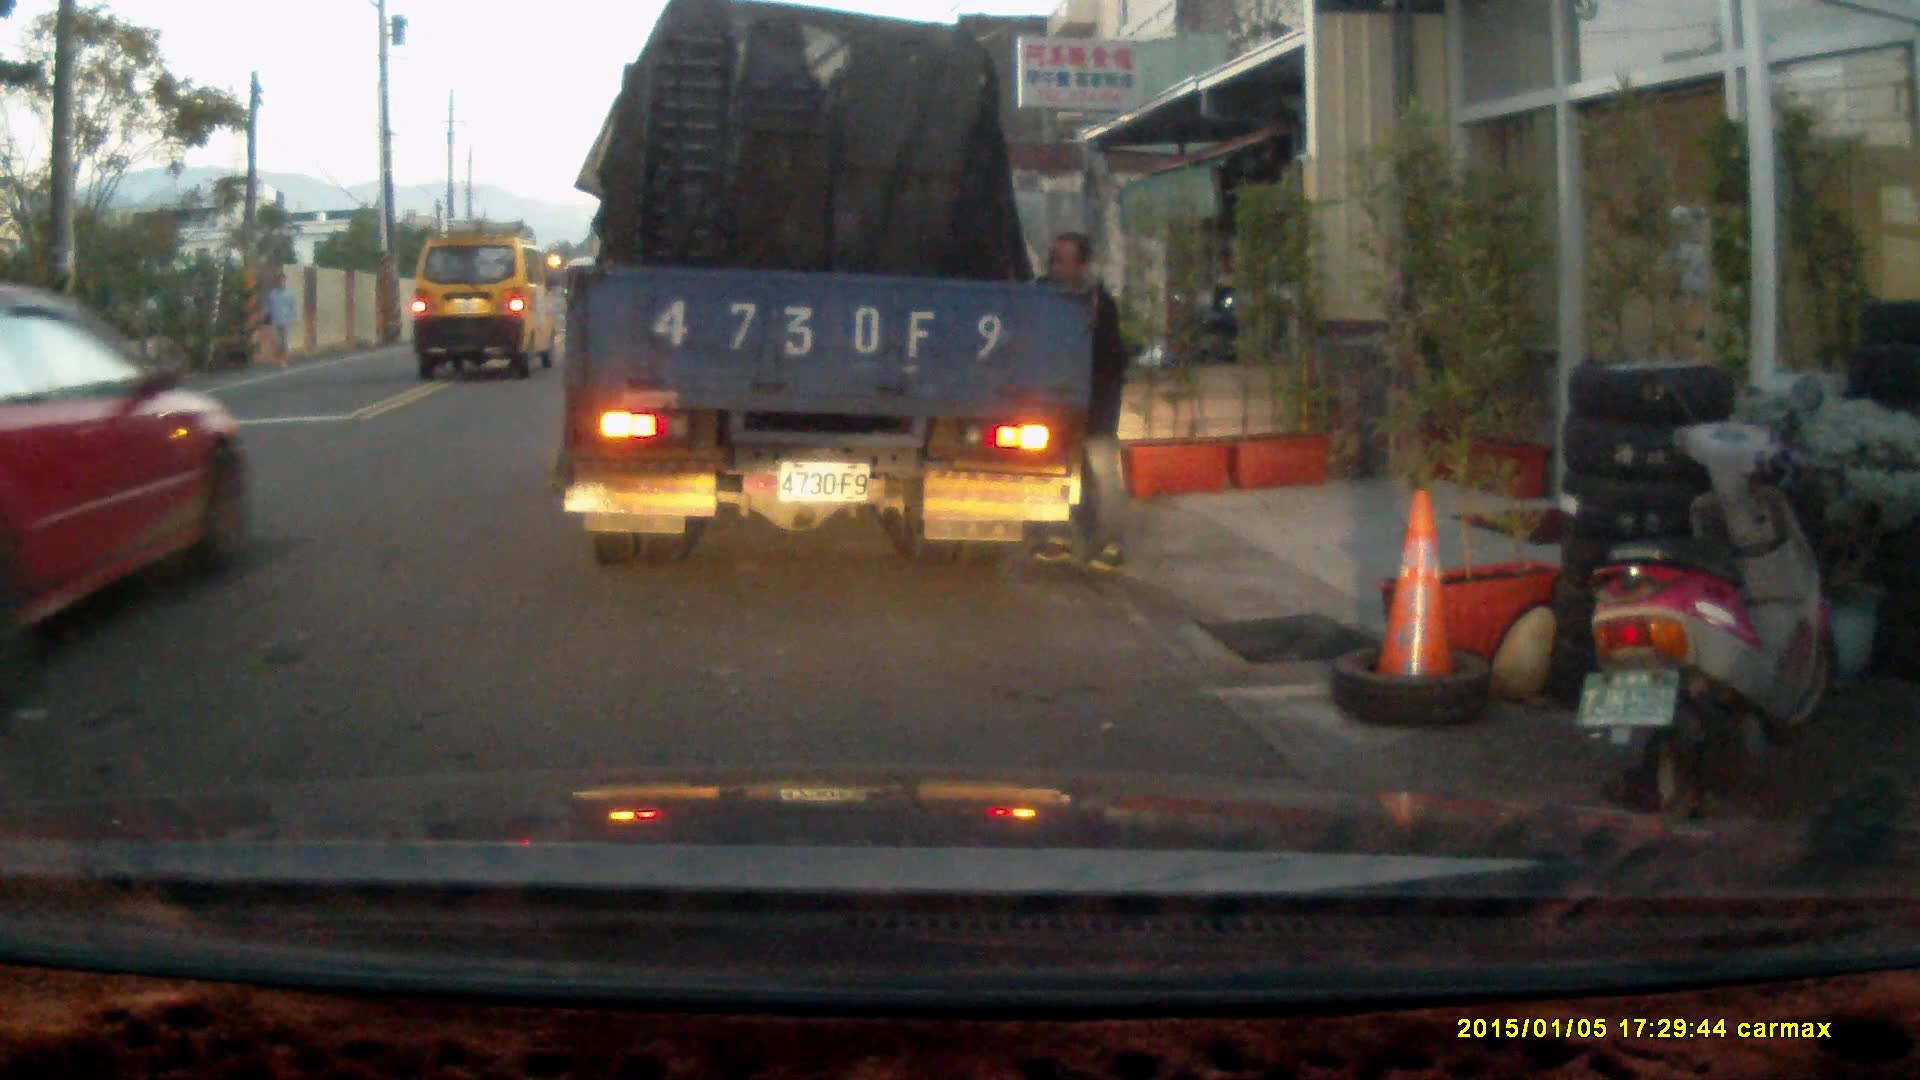pedestrian: (1019, 227, 1129, 575), (257, 276, 297, 369)
vehicle: (565, 23, 1095, 568), (1, 284, 249, 666), (409, 234, 563, 375)
